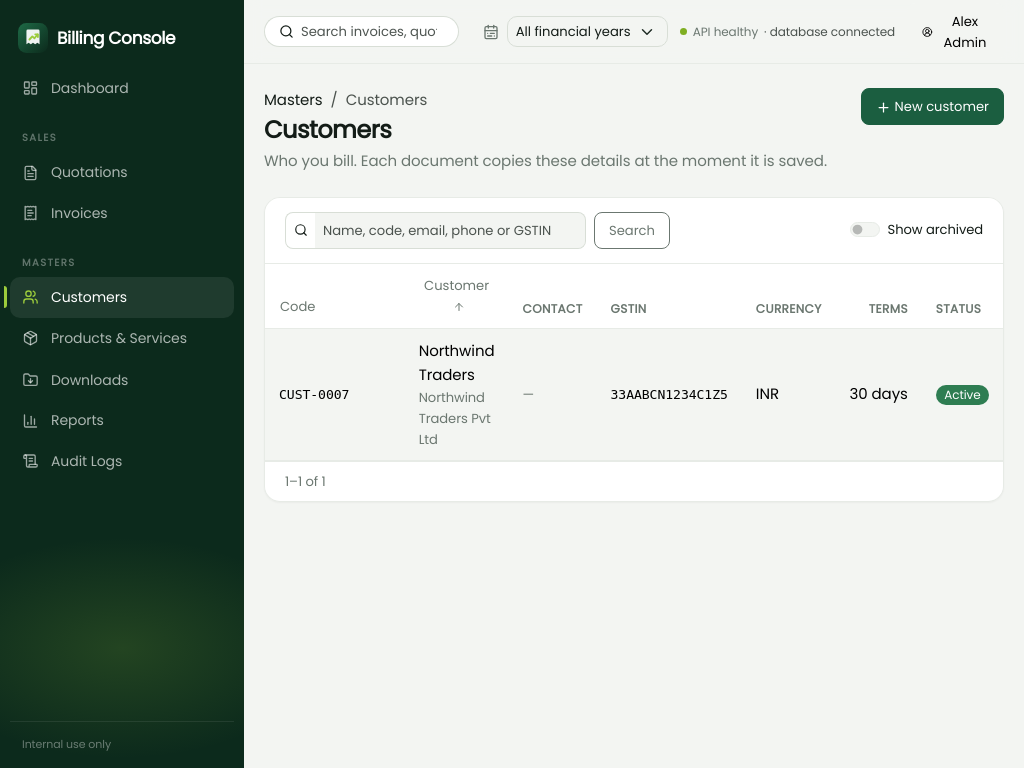
Test: creating a customer › says which field is wrong instead of doing nothing
Expected: the heading "Customers" is shown, [264,113,391,146]
Step 1. Click the button "New customer" → click(932, 106), box [860,88,1004,125]
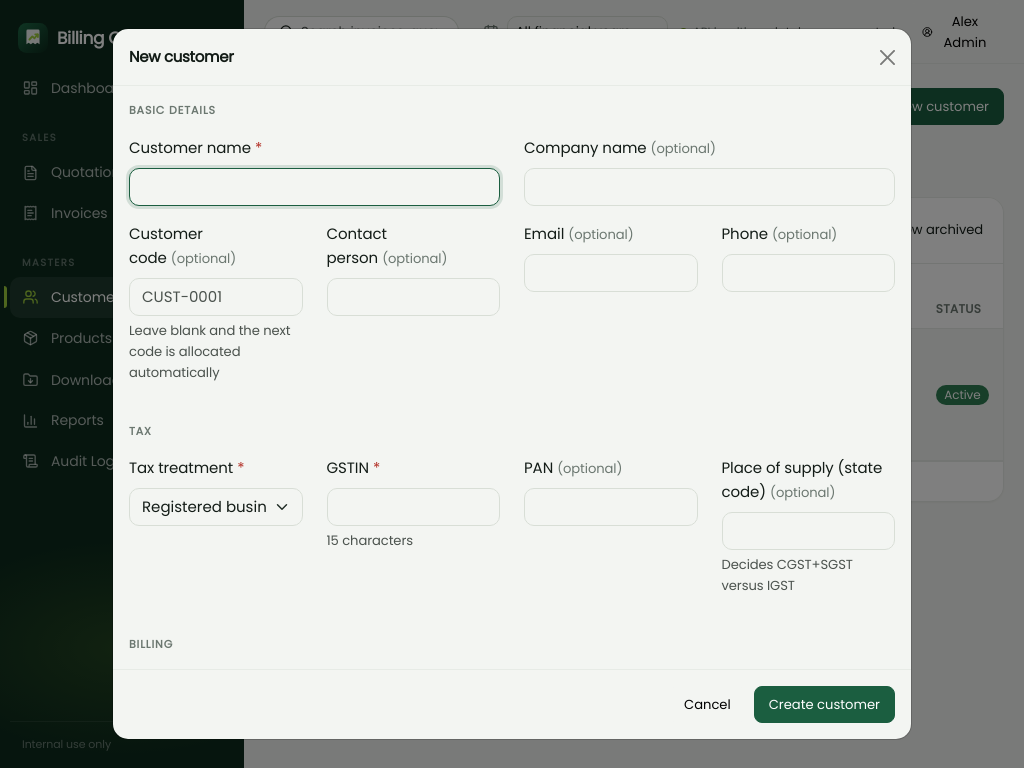
Result: the heading "New customer" is shown at [129,45,234,69]
Step 2. Type "Contoso Ltd" into the field labelled "Customer name*" → (314, 187), box [129,168,500,206]
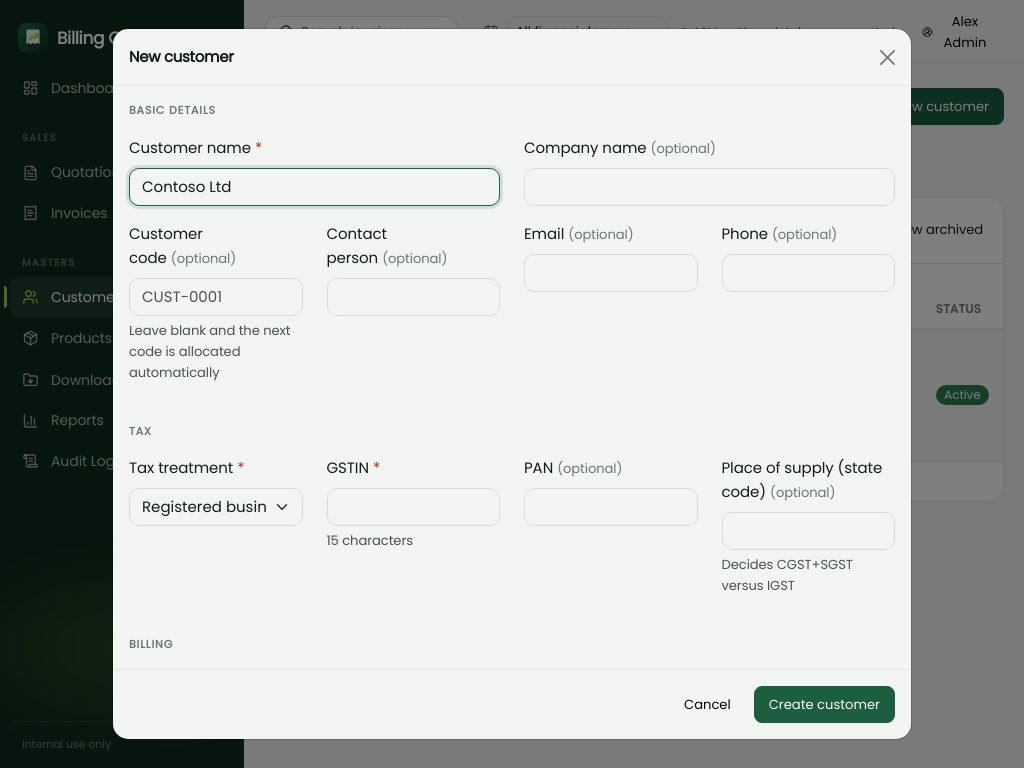
Step 3. Click the button "Create customer" → click(824, 704), box [754,686,895,723]
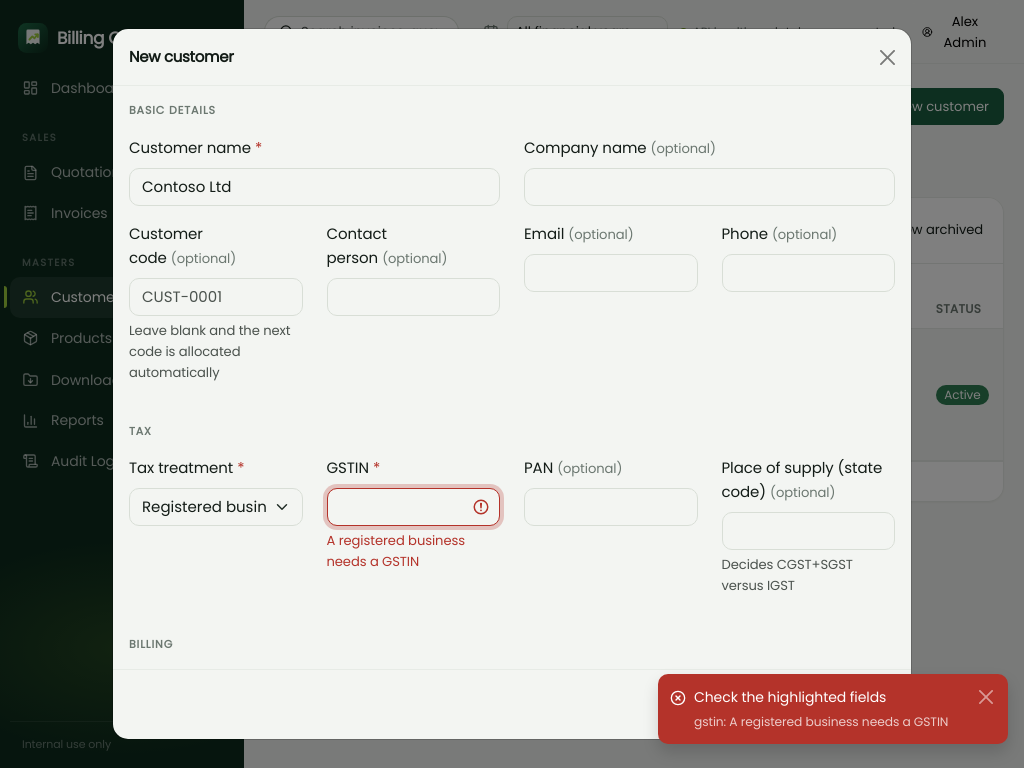
Result: the text "A registered business needs a GSTIN" is shown at [326,531,465,571]
